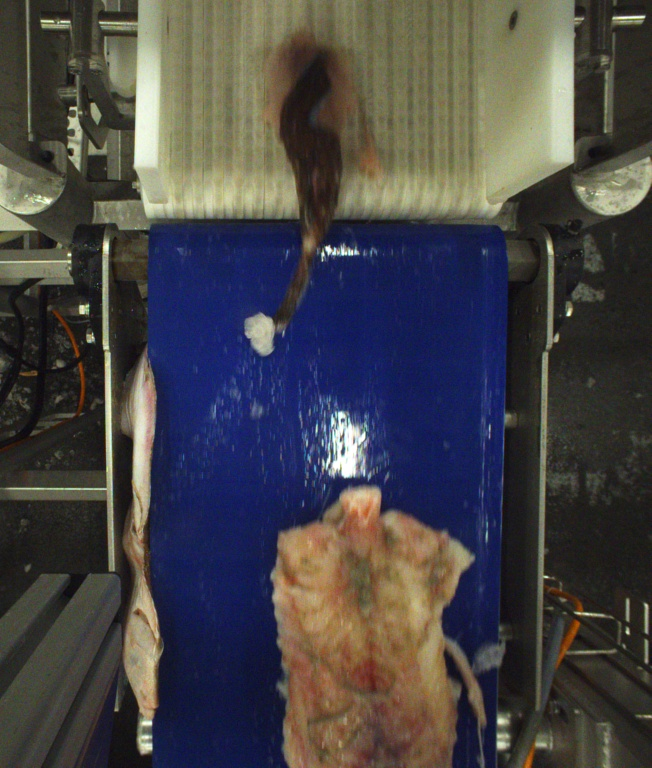ANF: (262, 496, 456, 768)
